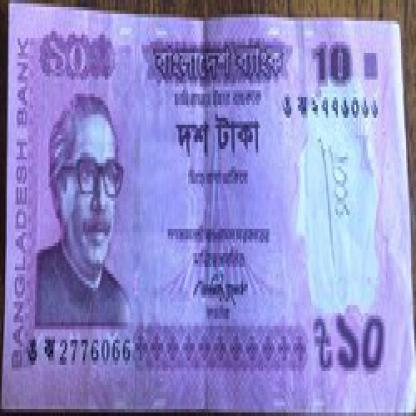Ten Taka: (332, 298, 394, 388), (38, 21, 100, 90), (311, 38, 360, 94)
